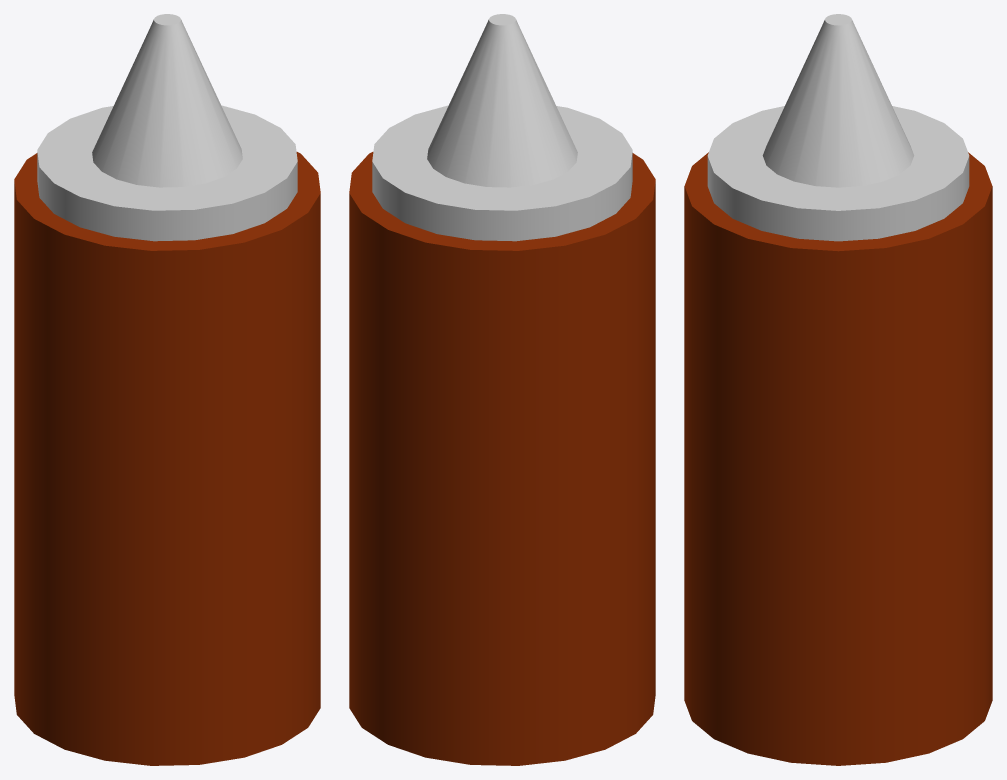
Rendered from red_condiment.fbx.
3 renders of one model, left to right at view 1: azimuth 30°, elevation 25°; view 2: azimuth 150°, elevation 25°; view 3: azimuth 270°, elevation 25°, orthographic.
Visible parts, largest first — view 1: pCylinder1; view 2: pCylinder1; view 3: pCylinder1.
Boxes of the visible parts, x1,y1,x2,y2 form: pCylinder1: [14, 14, 320, 765]; pCylinder1: [349, 14, 655, 765]; pCylinder1: [684, 14, 992, 765].
Bounding box in the file's own units: 80 × 195 × 80.
